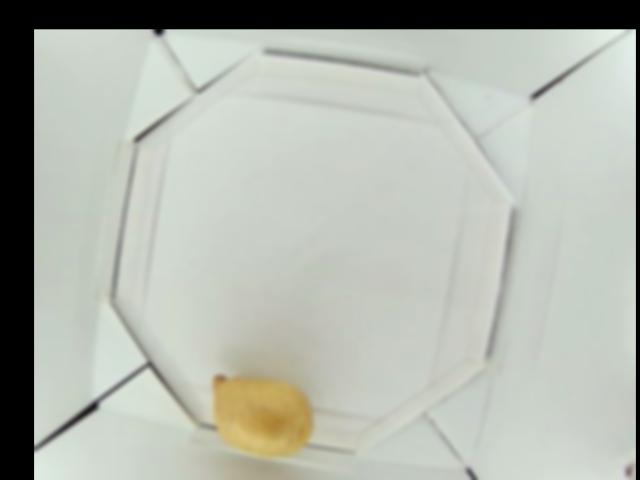Potato: (209, 370, 314, 463)
